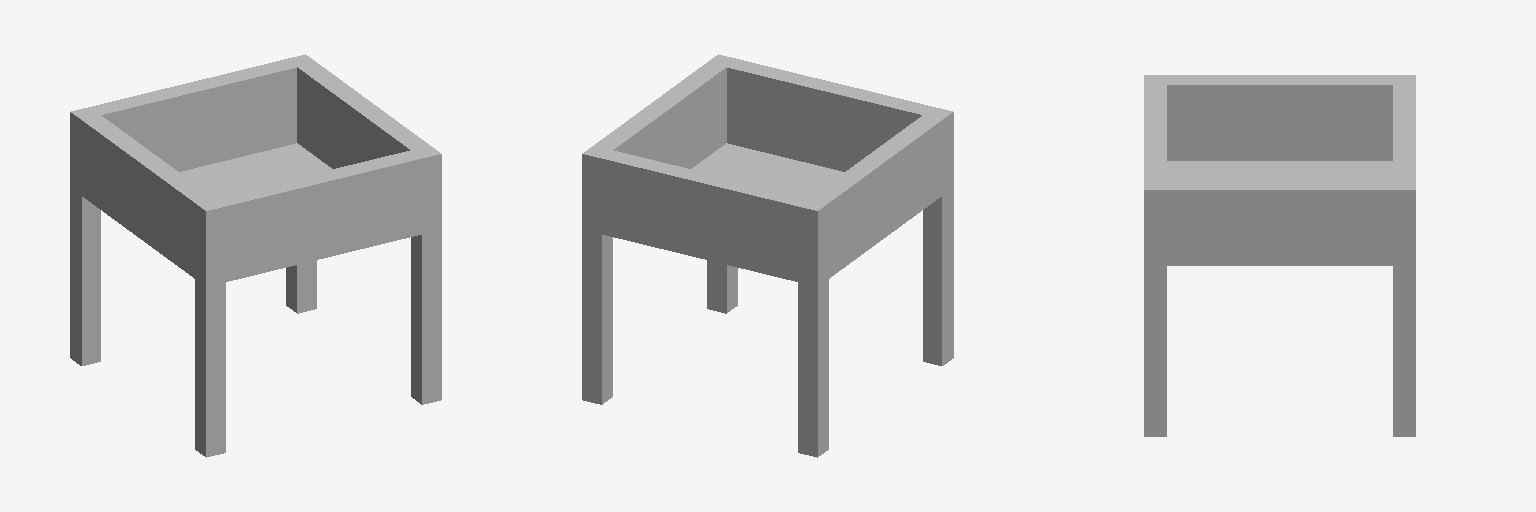
Rendered from sieve_empty.obj.
3 views of the same model, side by side, from view 1: azimuth 30°, elevation 25°; view 2: azimuth 150°, elevation 25°; view 3: azimuth 270°, elevation 25° (orthographic).
Visible parts, largest first — view 1: Cube_Cube_+y, Cube_Cube_-y; view 2: Cube_Cube_+y, Cube_Cube_-y; view 3: Cube_Cube_+y, Cube_Cube_-y.
Boxes of the visible parts, box(x1,y1,x2,y2) form: Cube_Cube_+y: box(70, 54, 441, 457); Cube_Cube_-y: box(179, 143, 331, 197); Cube_Cube_+y: box(582, 54, 953, 457); Cube_Cube_-y: box(692, 143, 844, 197); Cube_Cube_+y: box(1144, 75, 1415, 436); Cube_Cube_-y: box(1167, 161, 1392, 180).
Bounding box in the file's own units: 1 × 1 × 1.